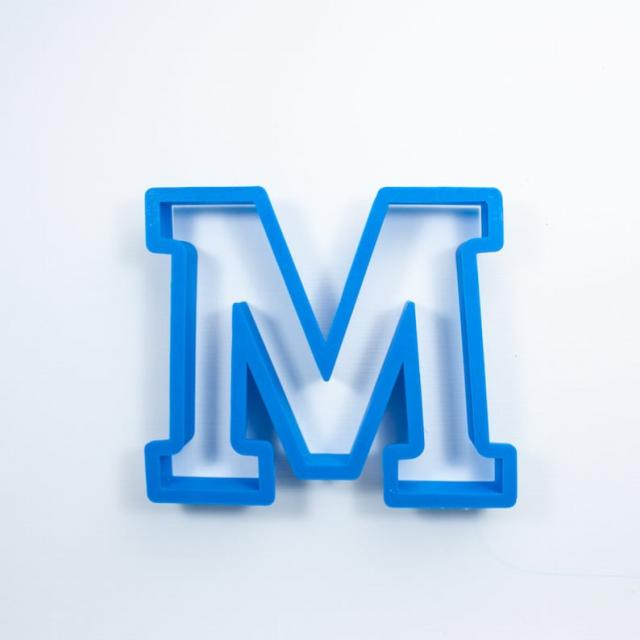M: (122, 150, 537, 546)
